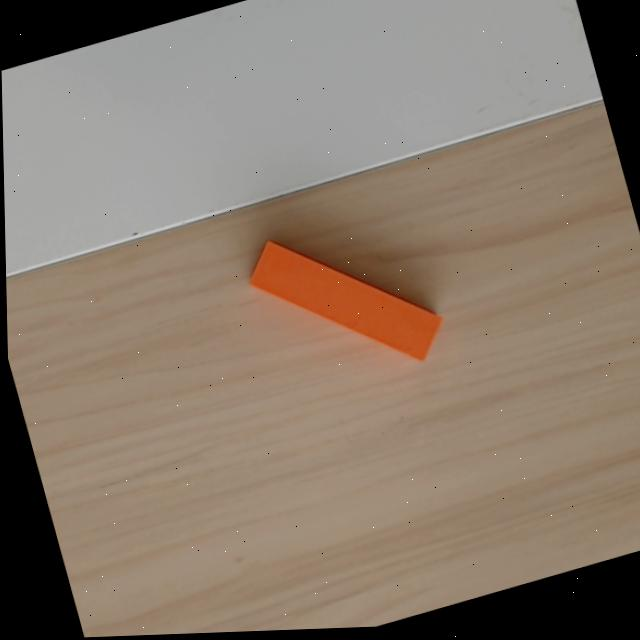Balok-Jingga-1002525: (246, 239, 443, 362)
